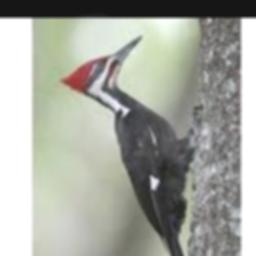Woodpecker: (58, 35, 195, 256)
